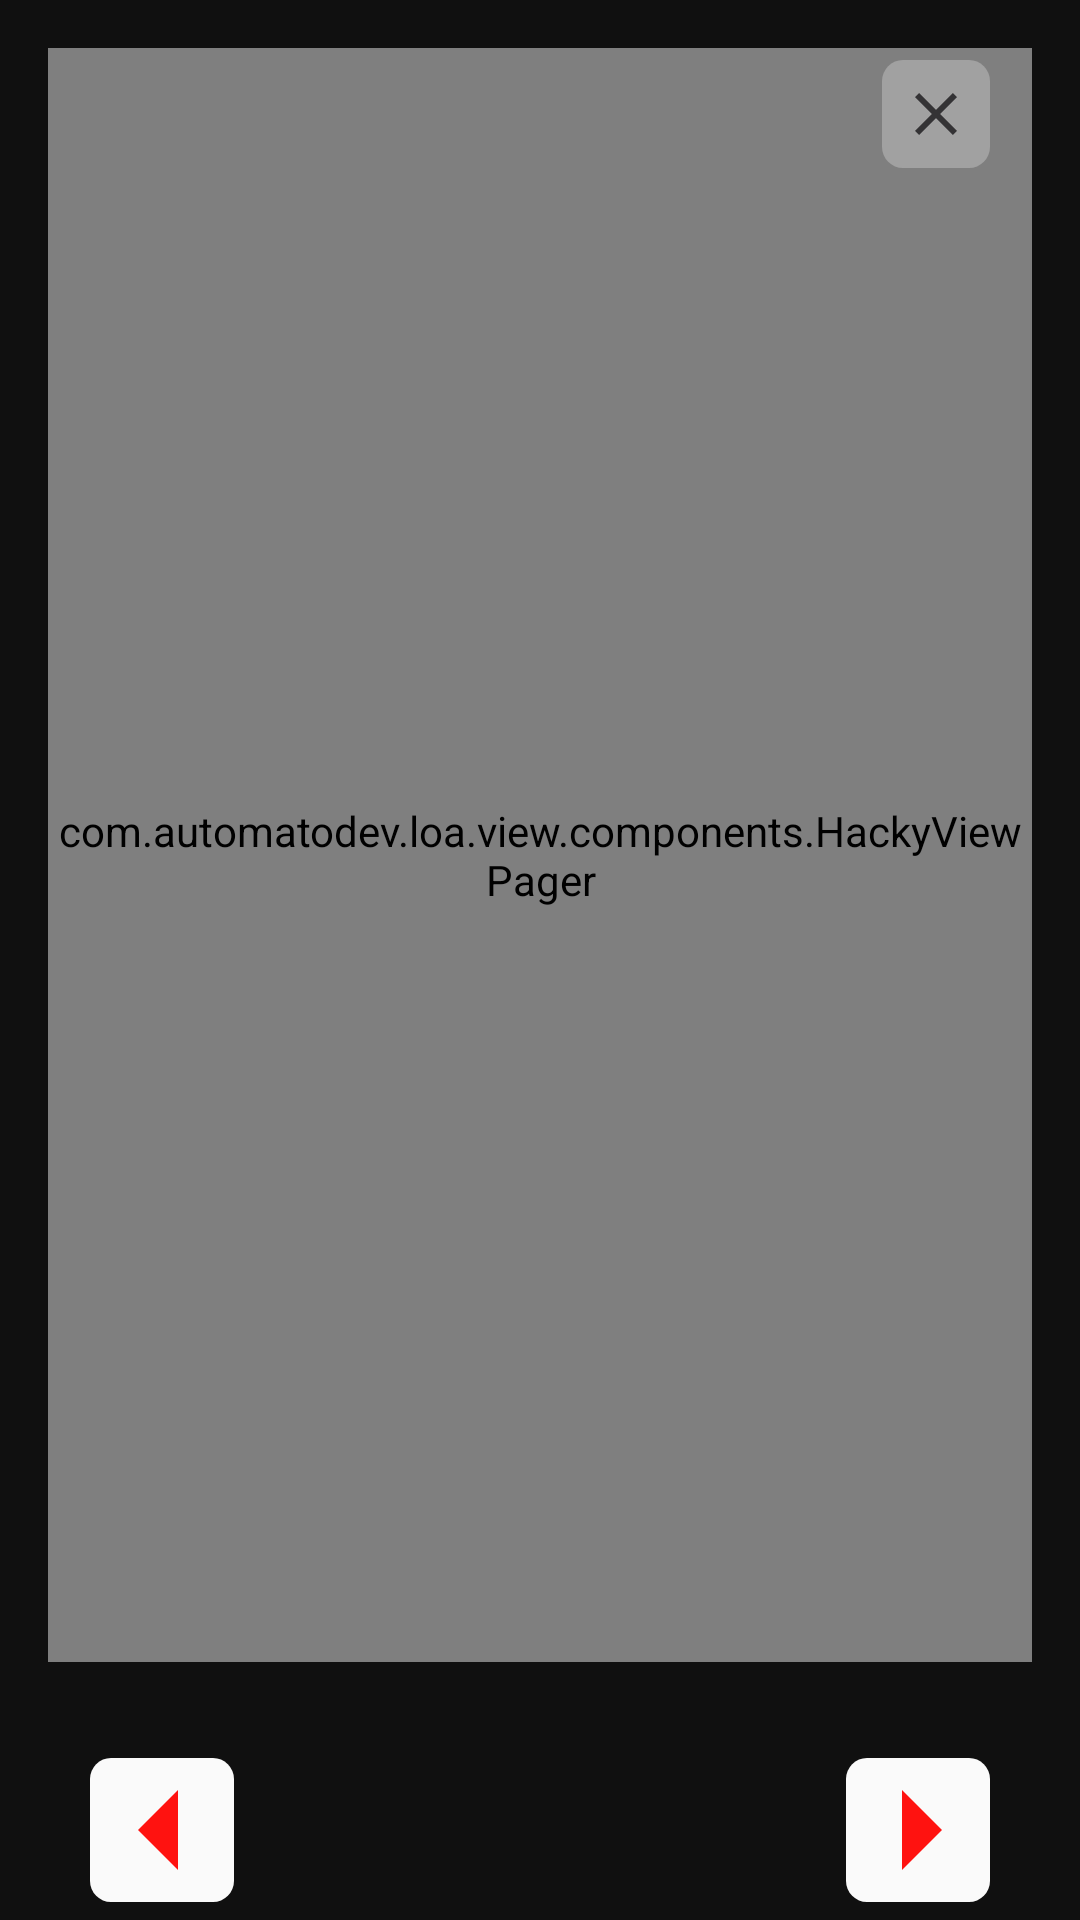

Locate icon controls on the screen. Image size 1080x1920, boxes as bbox=[x1, y1, x2, y2].
arrow left: bbox=[90, 1758, 234, 1902]
arrow right: bbox=[846, 1758, 990, 1902]
close: bbox=[882, 60, 990, 168]
